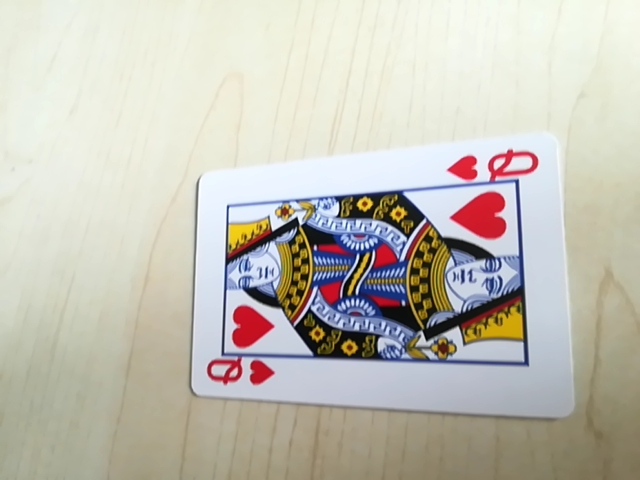hx q: (446, 144, 547, 188), (202, 354, 274, 394)
